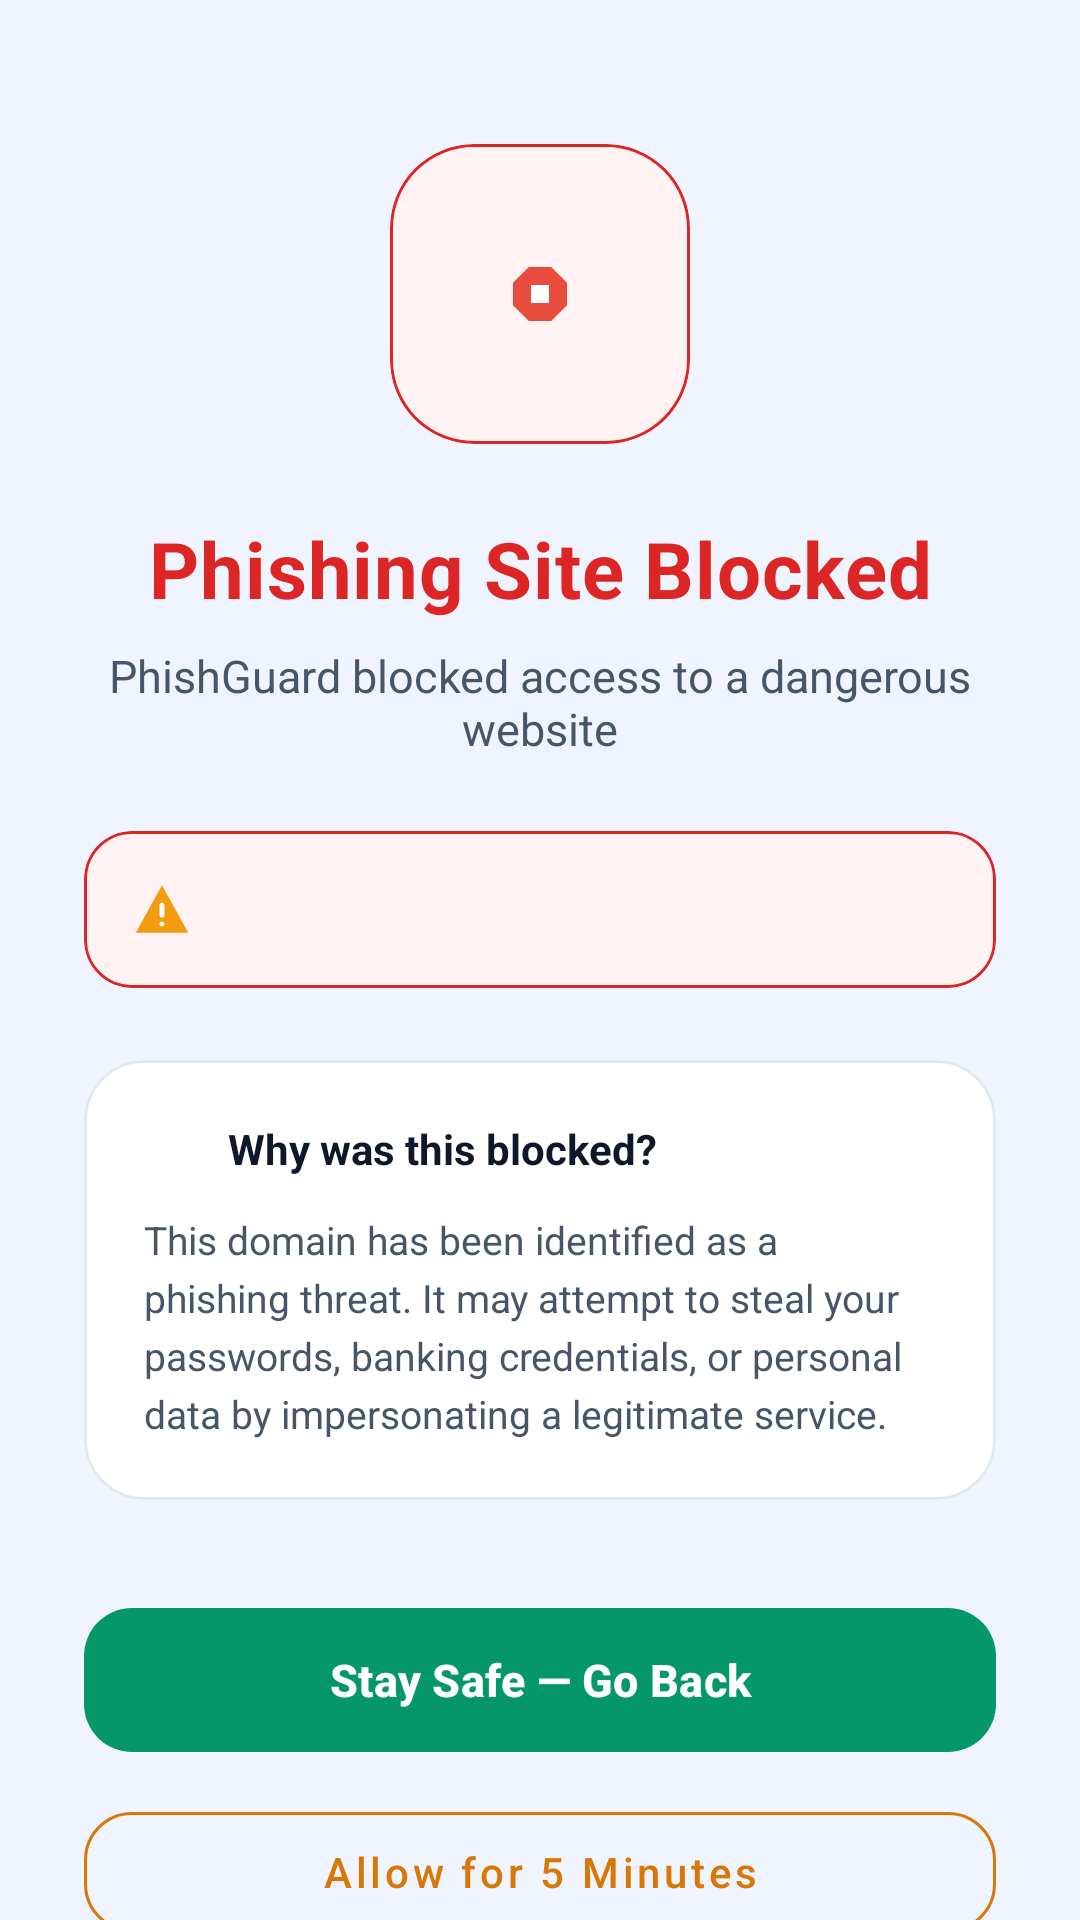

Where to tap for icons on this 1080×1920 app screen, as (x,y):
stop: (540,294)
warning: (162,909)
